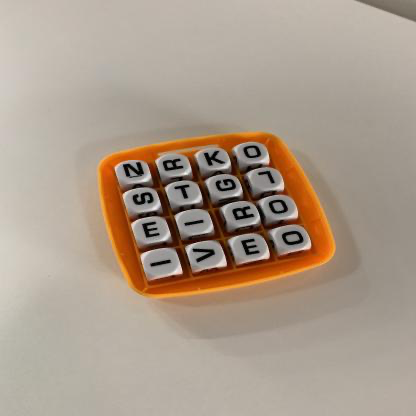e: (234, 235, 269, 262), (134, 217, 170, 243)
g: (209, 175, 242, 199)
i: (144, 249, 181, 277), (179, 210, 214, 235)
k: (198, 148, 231, 171)
l: (251, 168, 284, 192)
n: (117, 161, 152, 184)
o: (275, 226, 308, 251), (264, 196, 298, 220), (238, 143, 269, 164)
r: (226, 202, 259, 227), (159, 154, 192, 176)
s: (125, 189, 161, 213)
t: (168, 181, 201, 205)
v: (190, 242, 226, 269)
